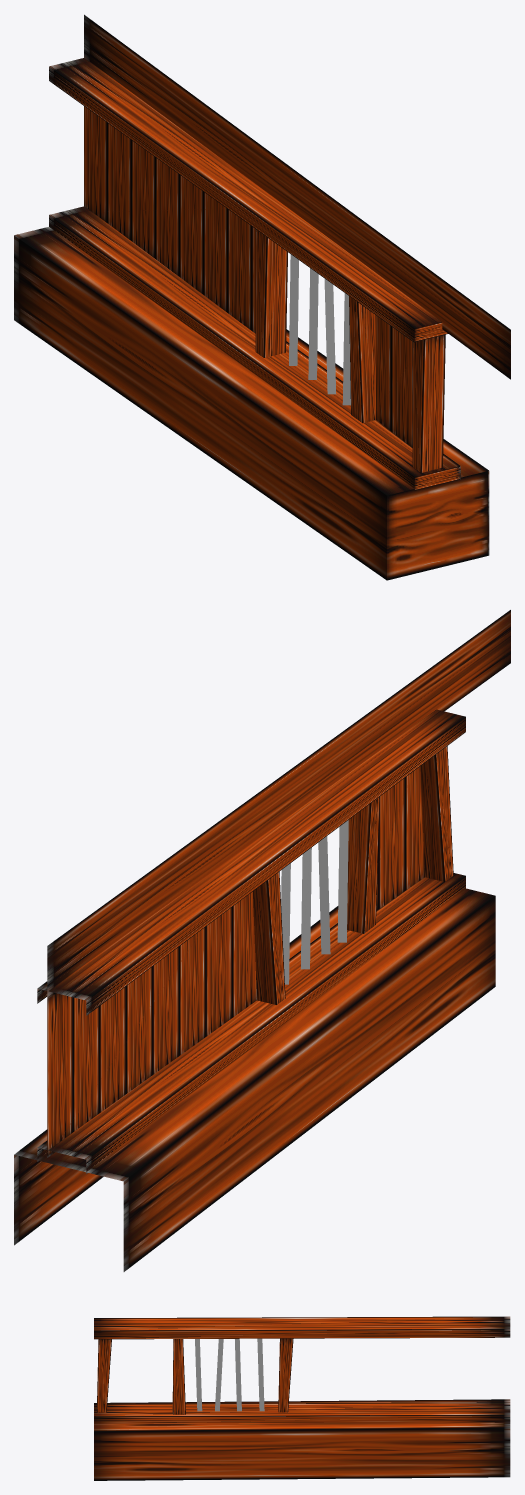
The model's file is Tresen_Hehler_1691.glb.
The picture shows the model from 3 angles, top to bottom: view 1: azimuth 30°, elevation 25°; view 2: azimuth 150°, elevation 25°; view 3: azimuth 270°, elevation 25°; orthographic projection. The views are drawn at different scales.
Visible parts, largest first — view 1: pPlaneShape9, pPlaneShape8, pPlaneShape6, pPlaneShape11, pPlaneShape30, pPlaneShape14, pPlaneShape12, pPlaneShape29, pPlaneShape13, pPlaneShape7, pPlaneShape26, pPlaneShape18 (+9 smaller); view 2: pPlaneShape9, pPlaneShape6, pPlaneShape8, pPlaneShape11, pPlaneShape30, pPlaneShape14, pPlaneShape29, pPlaneShape7, pPlaneShape13, pPlaneShape10, pPlaneShape24, pPlaneShape28 (+8 smaller); view 3: pPlaneShape10, pPlaneShape30, pPlaneShape14, pPlaneShape11, pPlaneShape31, pPlaneShape15, pPlaneShape19, pPlaneShape23, pPlaneShape27, pCylinderShape4, pCylinderShape2, pCylinderShape3 (+1 smaller).
Boxes of the visible parts, x1,y1,x2,y2 form: pPlaneShape9: (14,235,386,580); pPlaneShape8: (84,14,510,379); pPlaneShape6: (84,106,255,333); pPlaneShape11: (14,227,488,495); pPlaneShape30: (49,58,441,328); pPlaneShape14: (49,206,459,476); pPlaneShape12: (387,471,489,580); pPlaneShape29: (49,67,414,342); pPlaneShape13: (49,215,414,488); pPlaneShape7: (375,315,412,447); pPlaneShape26: (421,334,445,472); pPlaneShape18: (264,237,287,357); pPlaneShape9: (123,896,495,1271); pPlaneShape6: (47,891,256,1157); pPlaneShape8: (47,610,510,998); pPlaneShape11: (14,888,495,1181); pPlaneShape30: (37,709,465,1000); pPlaneShape14: (37,873,465,1159); pPlaneShape29: (86,717,465,1015); pPlaneShape7: (376,766,424,910); pPlaneShape13: (86,876,465,1173); pPlaneShape10: (14,1155,103,1245); pPlaneShape24: (347,803,370,933); pPlaneShape28: (420,755,444,881); pPlaneShape10: (94,1428,510,1480); pPlaneShape30: (94,1316,510,1330); pPlaneShape14: (94,1402,510,1416); pPlaneShape11: (94,1399,510,1431); pPlaneShape31: (94,1329,510,1339); pPlaneShape15: (94,1415,510,1423); pPlaneShape19: (278,1338,293,1412); pPlaneShape23: (173,1339,185,1414); pPlaneShape27: (97,1339,111,1412); pCylinderShape4: (257,1338,264,1411); pCylinderShape2: (215,1339,223,1411); pCylinderShape3: (235,1339,241,1411).
Size of the model in its own units: 0.1464 by 0.3493 by 0.9451.
31 materials, 27 textured.
